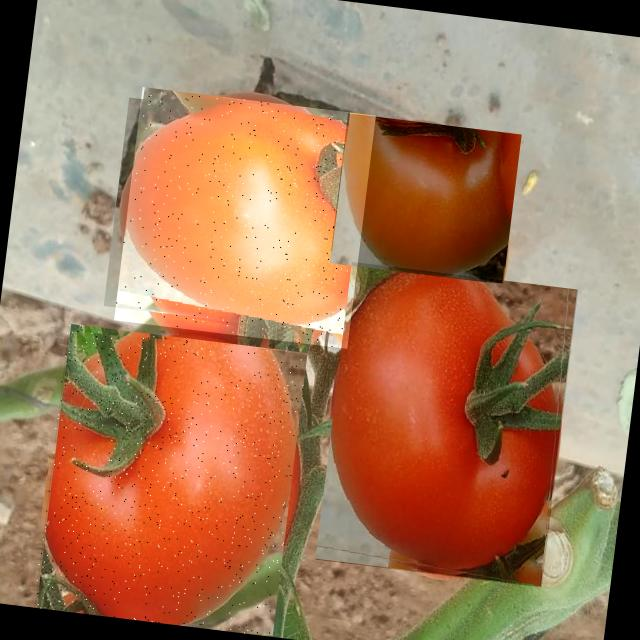Ripe Tomato: (31, 324, 306, 636), (315, 260, 578, 586), (114, 86, 376, 348), (329, 113, 521, 284)
